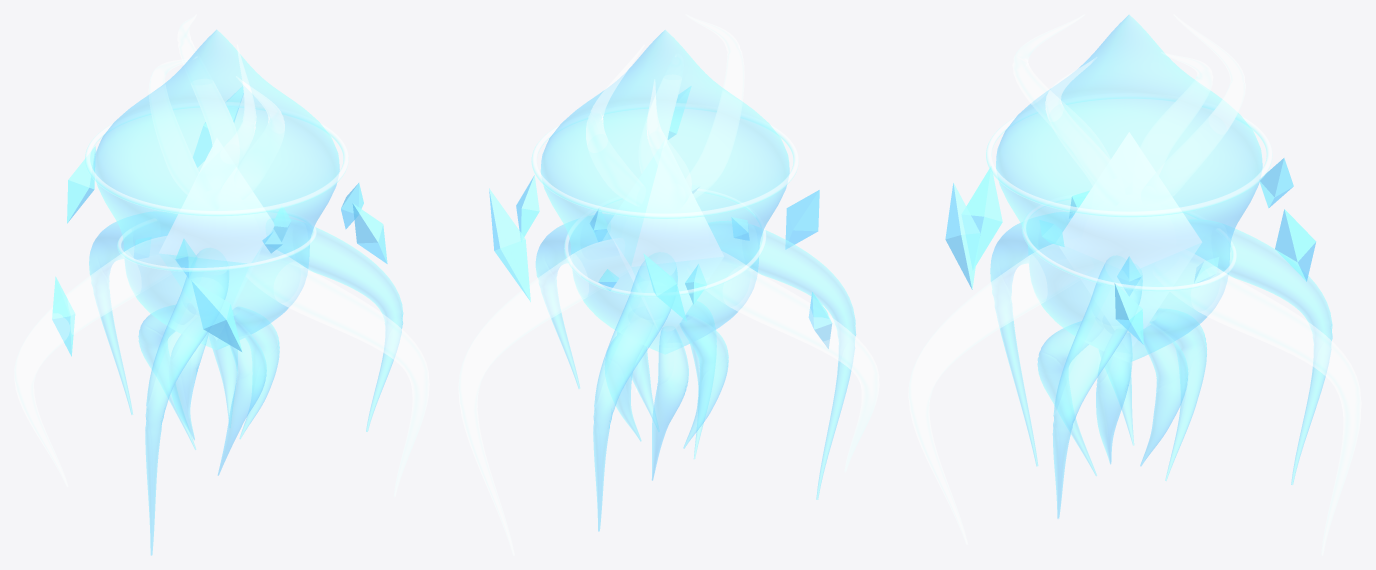
The model's file is healer.glb.
The picture shows the model from 3 angles, left to right: view 1: azimuth 30°, elevation 25°; view 2: azimuth 150°, elevation 25°; view 3: azimuth 270°, elevation 25°; orthographic projection. The views are drawn at different scales.
Parts seen in each view (by area): view 1: aura_shroud, core_crystal, wisp_1, wisp_3, wisp_2, wisp_0, wisp_4, wisp_upper_2, halo_ring, wisp_upper_1, tendril_1, tendril_0 (+13 smaller); view 2: aura_shroud, core_crystal, wisp_5, wisp_3, wisp_2, wisp_4, wisp_upper_1, wisp_0, halo_ring, tendril_3, wisp_upper_3, tendril_2 (+12 smaller); view 3: aura_shroud, core_crystal, wisp_5, wisp_1, wisp_4, wisp_0, wisp_upper_3, wisp_2, halo_ring, wisp_upper_0, tendril_3, tendril_4 (+12 smaller).
Boxes of the visible parts, bbox=[...] form: aura_shroud: bbox=[94, 29, 339, 349]; core_crystal: bbox=[159, 138, 274, 340]; wisp_1: bbox=[246, 242, 429, 496]; wisp_3: bbox=[14, 236, 176, 486]; wisp_2: bbox=[145, 248, 228, 555]; wisp_0: bbox=[265, 218, 403, 431]; wisp_4: bbox=[89, 211, 177, 414]; wisp_upper_2: bbox=[148, 56, 198, 194]; halo_ring: bbox=[85, 102, 348, 216]; wisp_upper_1: bbox=[194, 44, 256, 210]; tendril_1: bbox=[218, 320, 266, 475]; tendril_0: bbox=[233, 306, 279, 439]; aura_shroud: bbox=[540, 30, 789, 353]; core_crystal: bbox=[607, 140, 723, 344]; wisp_5: bbox=[458, 238, 629, 555]; wisp_3: bbox=[687, 248, 879, 472]; wisp_2: bbox=[708, 221, 856, 499]; wisp_4: bbox=[593, 252, 677, 531]; wisp_upper_1: bbox=[685, 14, 744, 198]; wisp_0: bbox=[535, 214, 613, 388]; halo_ring: bbox=[531, 103, 798, 218]; tendril_3: bbox=[651, 326, 688, 480]; wisp_upper_3: bbox=[586, 45, 645, 206]; tendril_2: bbox=[679, 314, 728, 448]; aura_shroud: bbox=[996, 14, 1262, 362]; core_crystal: bbox=[1057, 132, 1201, 351]; wisp_5: bbox=[1153, 244, 1361, 555]; wisp_1: bbox=[908, 239, 1093, 544]; wisp_4: bbox=[1188, 219, 1332, 484]; wisp_0: bbox=[1052, 255, 1142, 518]; wisp_upper_3: bbox=[1141, 14, 1245, 208]; wisp_2: bbox=[990, 212, 1074, 466]; halo_ring: bbox=[986, 93, 1272, 217]; wisp_upper_0: bbox=[1045, 57, 1123, 206]; tendril_3: bbox=[1150, 308, 1206, 480]; tendril_4: bbox=[1140, 324, 1188, 466].
Size of the model in its own units: 3.06 by 3.8 by 3.07.
